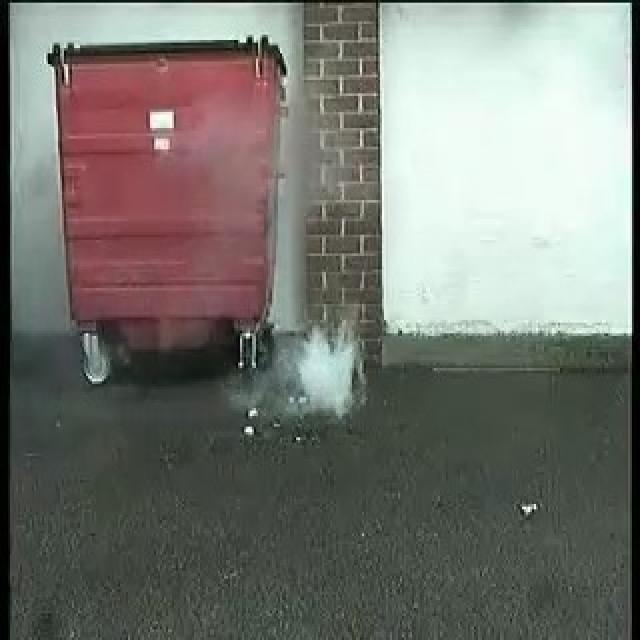smoke: (275, 310, 364, 416)
